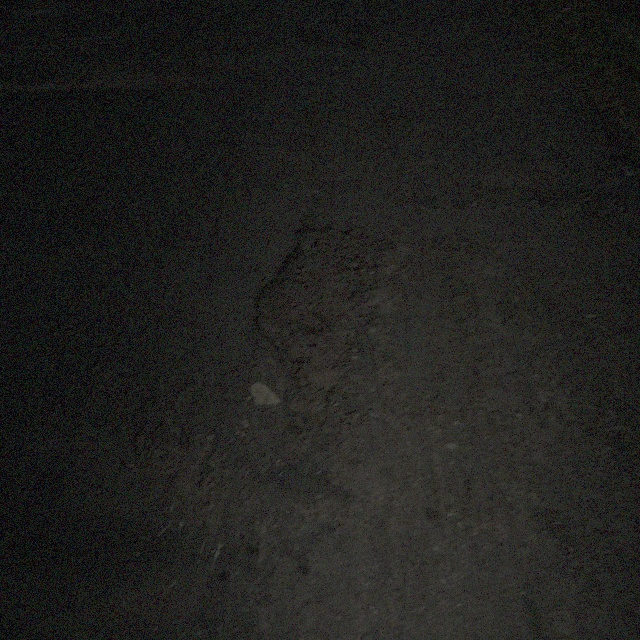pothole: (249, 215, 404, 405), (294, 24, 326, 49), (343, 19, 378, 36), (340, 38, 372, 52)
